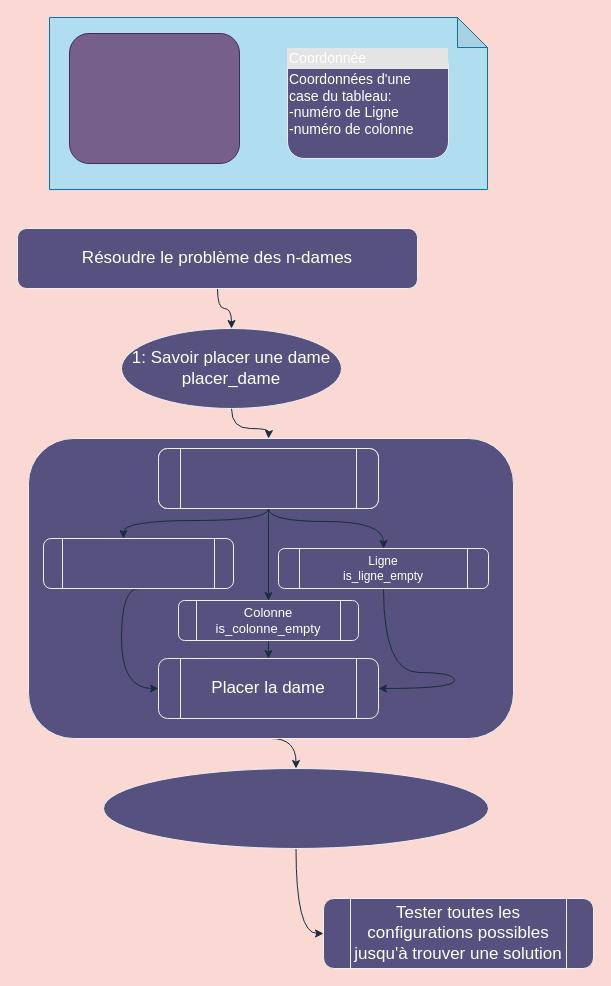
This 611x986 diagram has some shape labels left out. The shapes that lost their labels are listed below. From the top down, each one's centre as x and y in pixels, then its label:
the point at 154,98: Damier -Taille du Damier -Grille du damier
the point at 268,478: Placement autorisé? placement_autorise
the point at 138,563: Diagonale are_diagonnales_empty
the point at 295,808: 2:Placer toutes les dames sur le damier placer_dames
